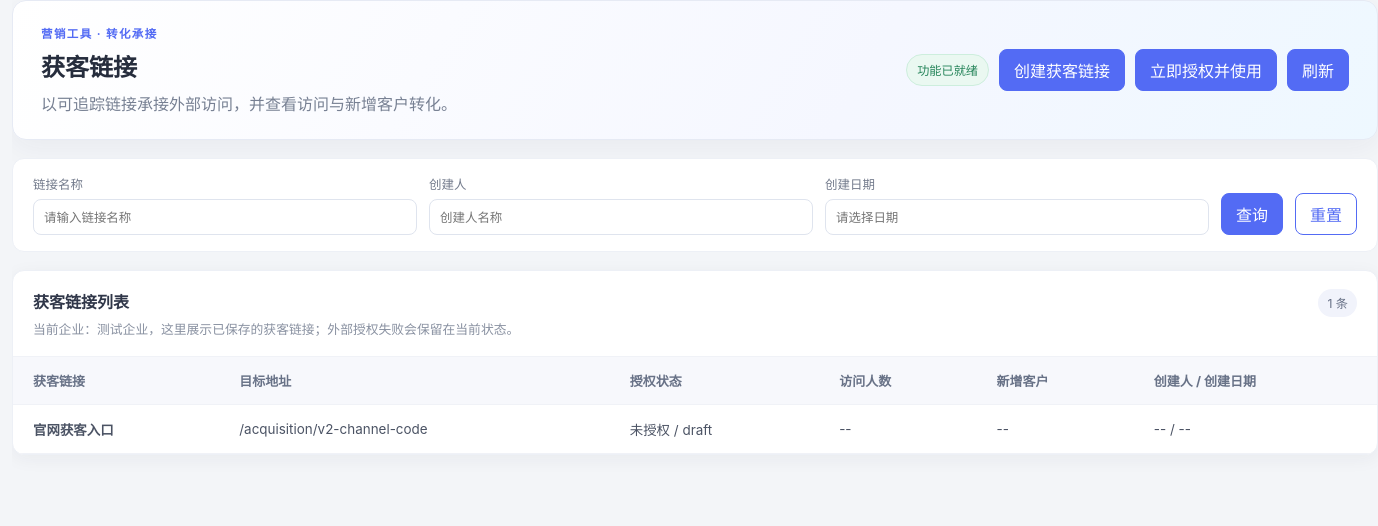
it: Phase 3.4 conversion pages › refreshes the persisted acquisition-link failure state after authorization errors
Check: the text "官网获客入口" is shown, box [33, 422, 114, 438]
Click the button "立即授权并使用" at (1206, 70), box [1135, 49, 1277, 91]
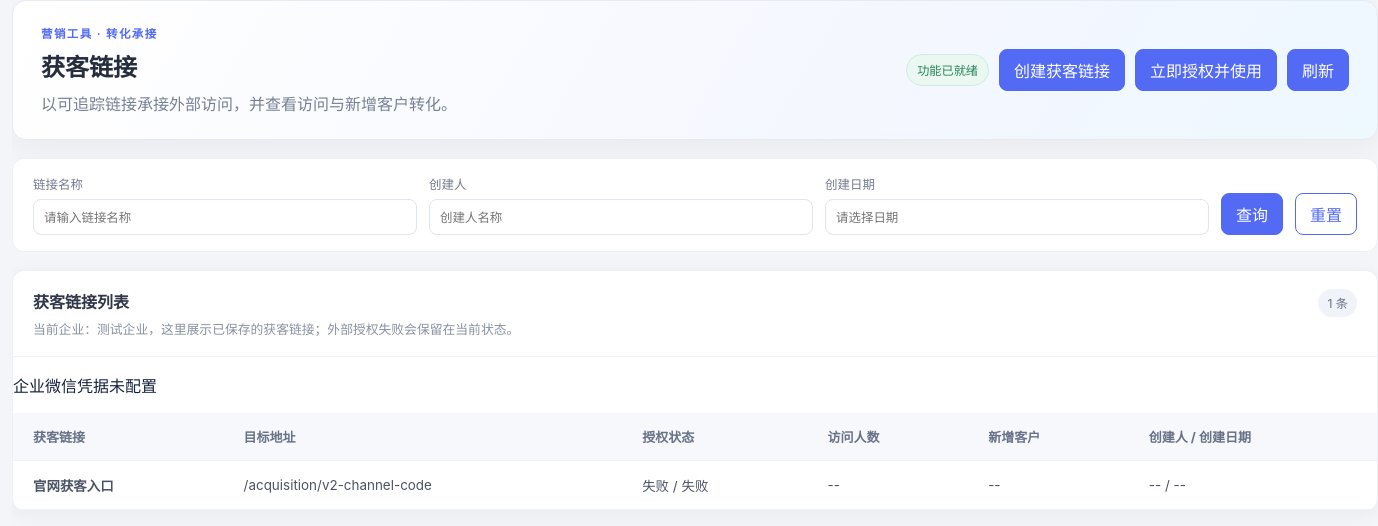
Check: the message reads "企业微信凭据未配置", box [13, 376, 157, 396]
Check: the text "失败 / 失败" is shown, box [622, 460, 808, 510]
